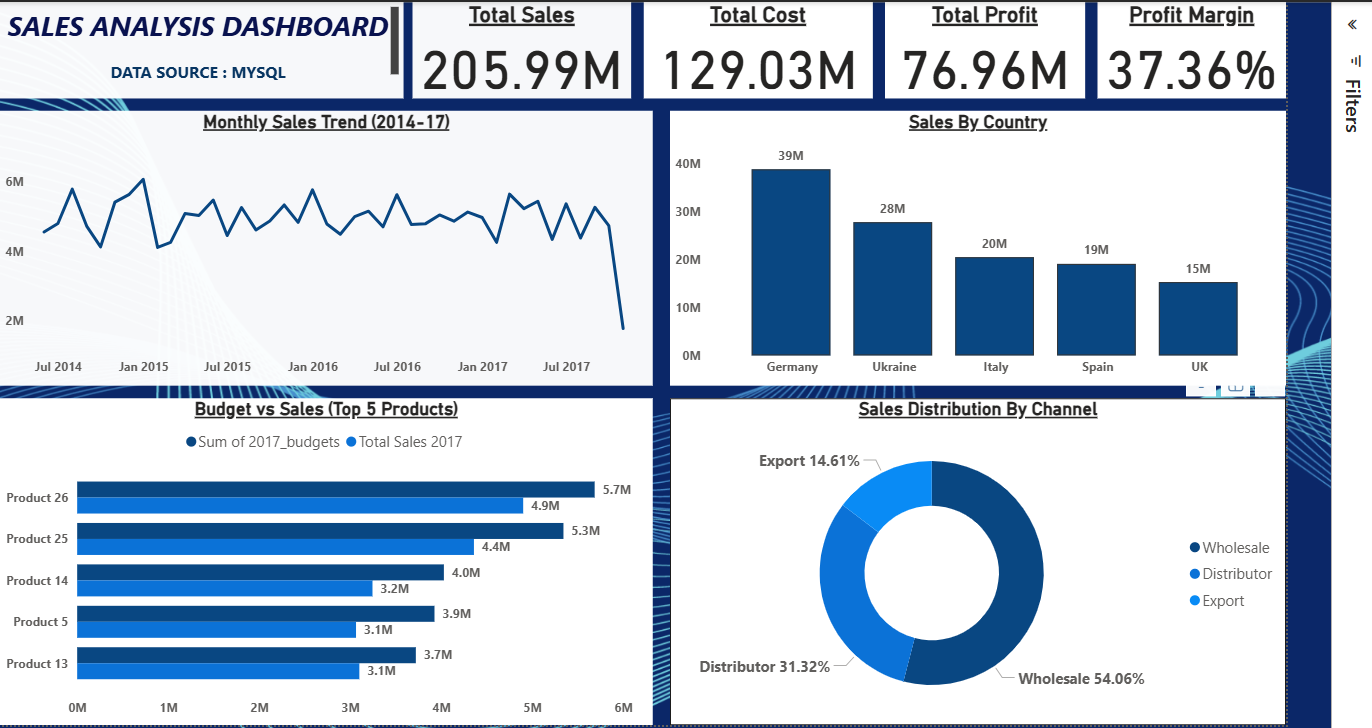

Layout of this report page (visuals, bound fields, positions):
{"tool":"powerbi","page":{"name":"Page 1","canvas":[1280,720],"ordinal":0},"visuals":[{"type":"card","title":"Total Sales","fields":{"Values":["sales_project budgets.Total Sales"]},"box":[410.5,0,217.7,95.8],"z":0},{"type":"card","title":"Total Cost","fields":{"Values":["sales_project budgets.Total Cost"]},"box":[640.6,0,227.6,95.8],"z":1000},{"type":"card","title":"Total Profit","fields":{"Values":["sales_project budgets.Total Profit"]},"box":[880.7,0,199,95.8],"z":2000},{"type":"card","title":"Profit Margin","fields":{"Values":["sales_project budgets.Profit Margin"]},"box":[1092.2,0,187.8,95.8],"z":3000},{"type":"lineChart","title":"Monthly Sales Trend (2014-17)","fields":{"Y":["sales_project budgets.Total Sales"],"Category":["sales_project sales_order.order_date.Variation.Date Hierarchy.Year","sales_project sales_order.order_date.Variation.Date Hierarchy.Month"]},"box":[0,108.2,649.3,273.7],"z":4000},{"type":"donutChart","title":"Sales Distribution By Channel","fields":{"Category":["sales_project sales_order.channel"],"Y":["sales_project budgets.Total Sales"]},"box":[666.8,394.3,613.3,325.9],"z":5000},{"type":"clusteredBarChart","title":"Budget vs Sales (Top 5 Products)","fields":{"Category":["sales_project products.product_name"],"Y":["Sum(sales_project budgets.2017_budgets)","sales_project sales_order.Total Sales 2017"]},"box":[0,394.3,649.3,325.9],"z":6000},{"type":"columnChart","title":"Sales By Country","fields":{"Category":["sales_project regions.country"],"Y":["sales_project budgets.Total Sales"]},"box":[666.8,108.2,613.3,273.7],"z":7000},{"type":"textbox","box":[0,0,401.8,95.8],"z":8000}]}

Visuals, with their boxes in screenshot pixels (x1, y1, x2, y2):
"Total Sales" card: (x1=413, y1=0, x2=631, y2=96)
"Total Cost" card: (x1=643, y1=0, x2=870, y2=96)
"Total Profit" card: (x1=883, y1=0, x2=1081, y2=96)
"Profit Margin" card: (x1=1094, y1=0, x2=1281, y2=96)
"Monthly Sales Trend (2014-17)" lineChart: (x1=4, y1=108, x2=652, y2=381)
"Sales Distribution By Channel" donutChart: (x1=669, y1=394, x2=1282, y2=719)
"Budget vs Sales (Top 5 Products)" clusteredBarChart: (x1=4, y1=394, x2=652, y2=719)
"Sales By Country" columnChart: (x1=669, y1=108, x2=1282, y2=381)
textbox: (x1=4, y1=0, x2=405, y2=96)
